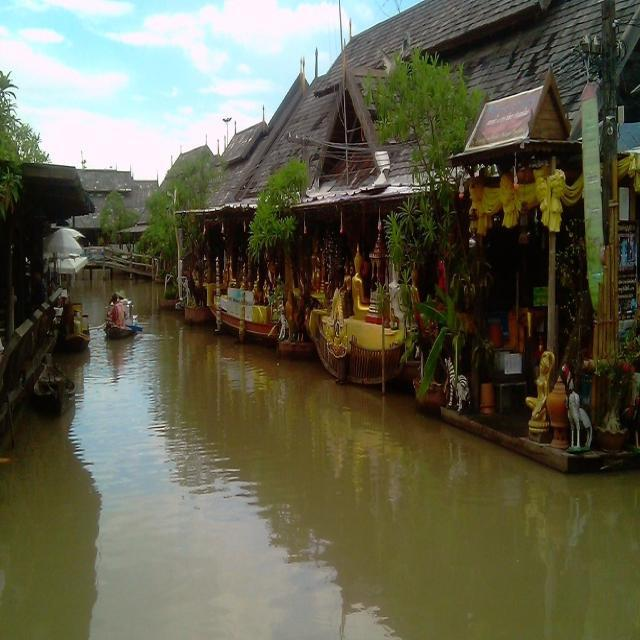boat: (101, 309, 142, 357)
